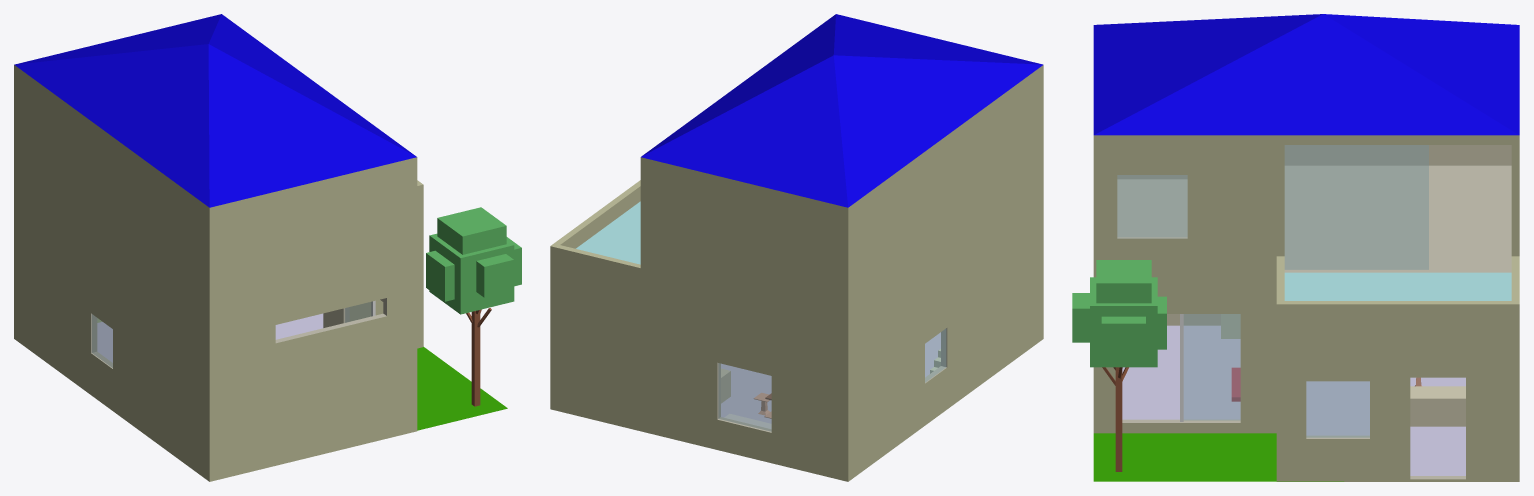
File: house001_RinbokuCollection_04.glb
3 views of the same model, side by side, from view 1: azimuth 30°, elevation 25°; view 2: azimuth 150°, elevation 25°; view 3: azimuth 270°, elevation 25° (orthographic). The views are drawn at different scales.
Parts seen in each view (by area): view 1: Cube, Cube.045, Cube.040, Cube.046, Plane.003; view 2: Cube, Plane.004, Plane.003; view 3: Cube, Plane.005, Cube.040, Cube.045, Plane.001, Cube.041, Plane.002, Cube.033, Cube.046, Cube.043.
Boxes of the visible parts, x1,y1,x2,y2 form: Cube: (14, 14, 423, 481); Cube.045: (426, 207, 521, 314); Cube.040: (417, 347, 507, 430); Cube.046: (466, 308, 491, 406); Plane.003: (92, 314, 112, 367); Cube: (550, 14, 1043, 481); Plane.004: (718, 363, 771, 431); Plane.003: (925, 329, 945, 382); Cube: (1093, 14, 1519, 481); Plane.005: (1285, 145, 1428, 269); Cube.040: (1093, 433, 1343, 481); Cube.045: (1072, 260, 1166, 367); Plane.001: (1184, 314, 1240, 420); Cube.041: (1117, 175, 1187, 238); Plane.002: (1306, 381, 1369, 437); Cube.033: (1410, 386, 1465, 426); Cube.046: (1102, 367, 1128, 471); Cube.043: (1221, 314, 1240, 338).
Size of the model in its own units: 8.63 by 8.78 by 9.71.
